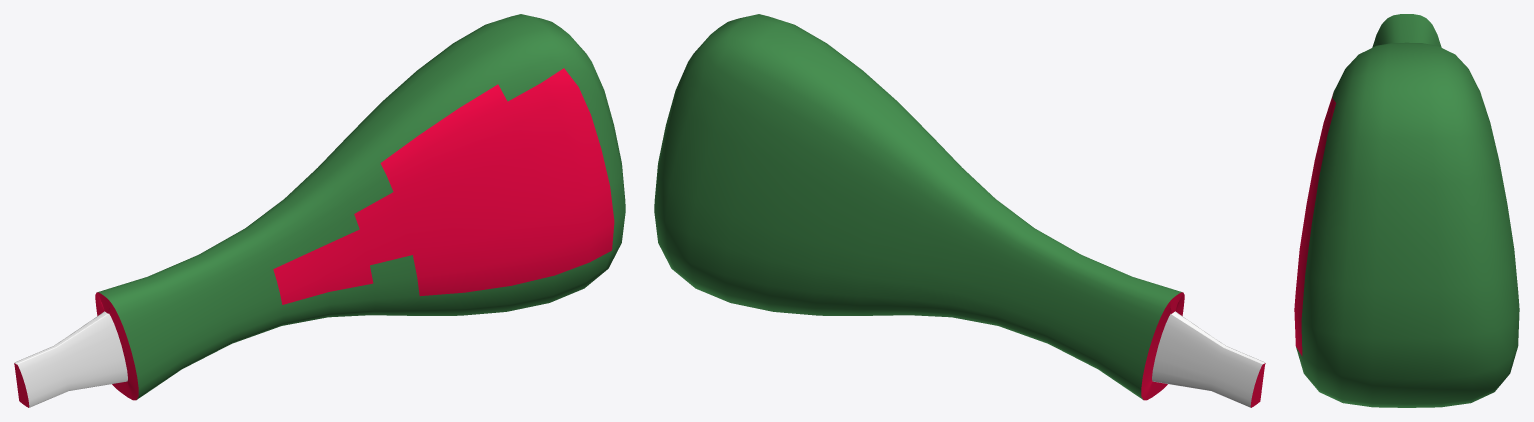
File: hand.fbx
3 renders of one model, left to right at view 1: azimuth 30°, elevation 25°; view 2: azimuth 150°, elevation 25°; view 3: azimuth 270°, elevation 25°, orthographic. The views are drawn at different scales.
Visible parts, largest first — view 1: hand; view 2: hand; view 3: hand.
Part boxes in pixels (x1,y1,x2,y2): hand: (14, 14, 625, 407); hand: (654, 14, 1265, 407); hand: (1294, 14, 1519, 407).
Size of the model in its own units: 128 by 56.18 by 33.04.
